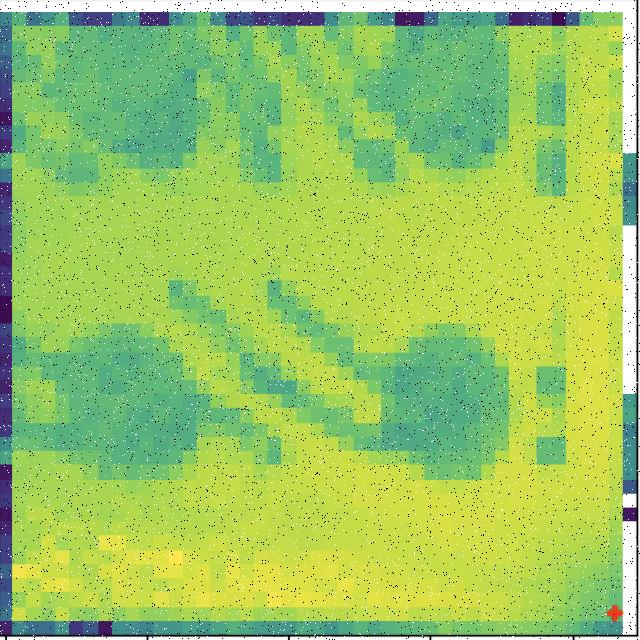Concrete: (386, 324, 513, 485)
Glass: (382, 41, 527, 177)
Metal: (54, 319, 203, 486)
Wood: (58, 34, 227, 185)
